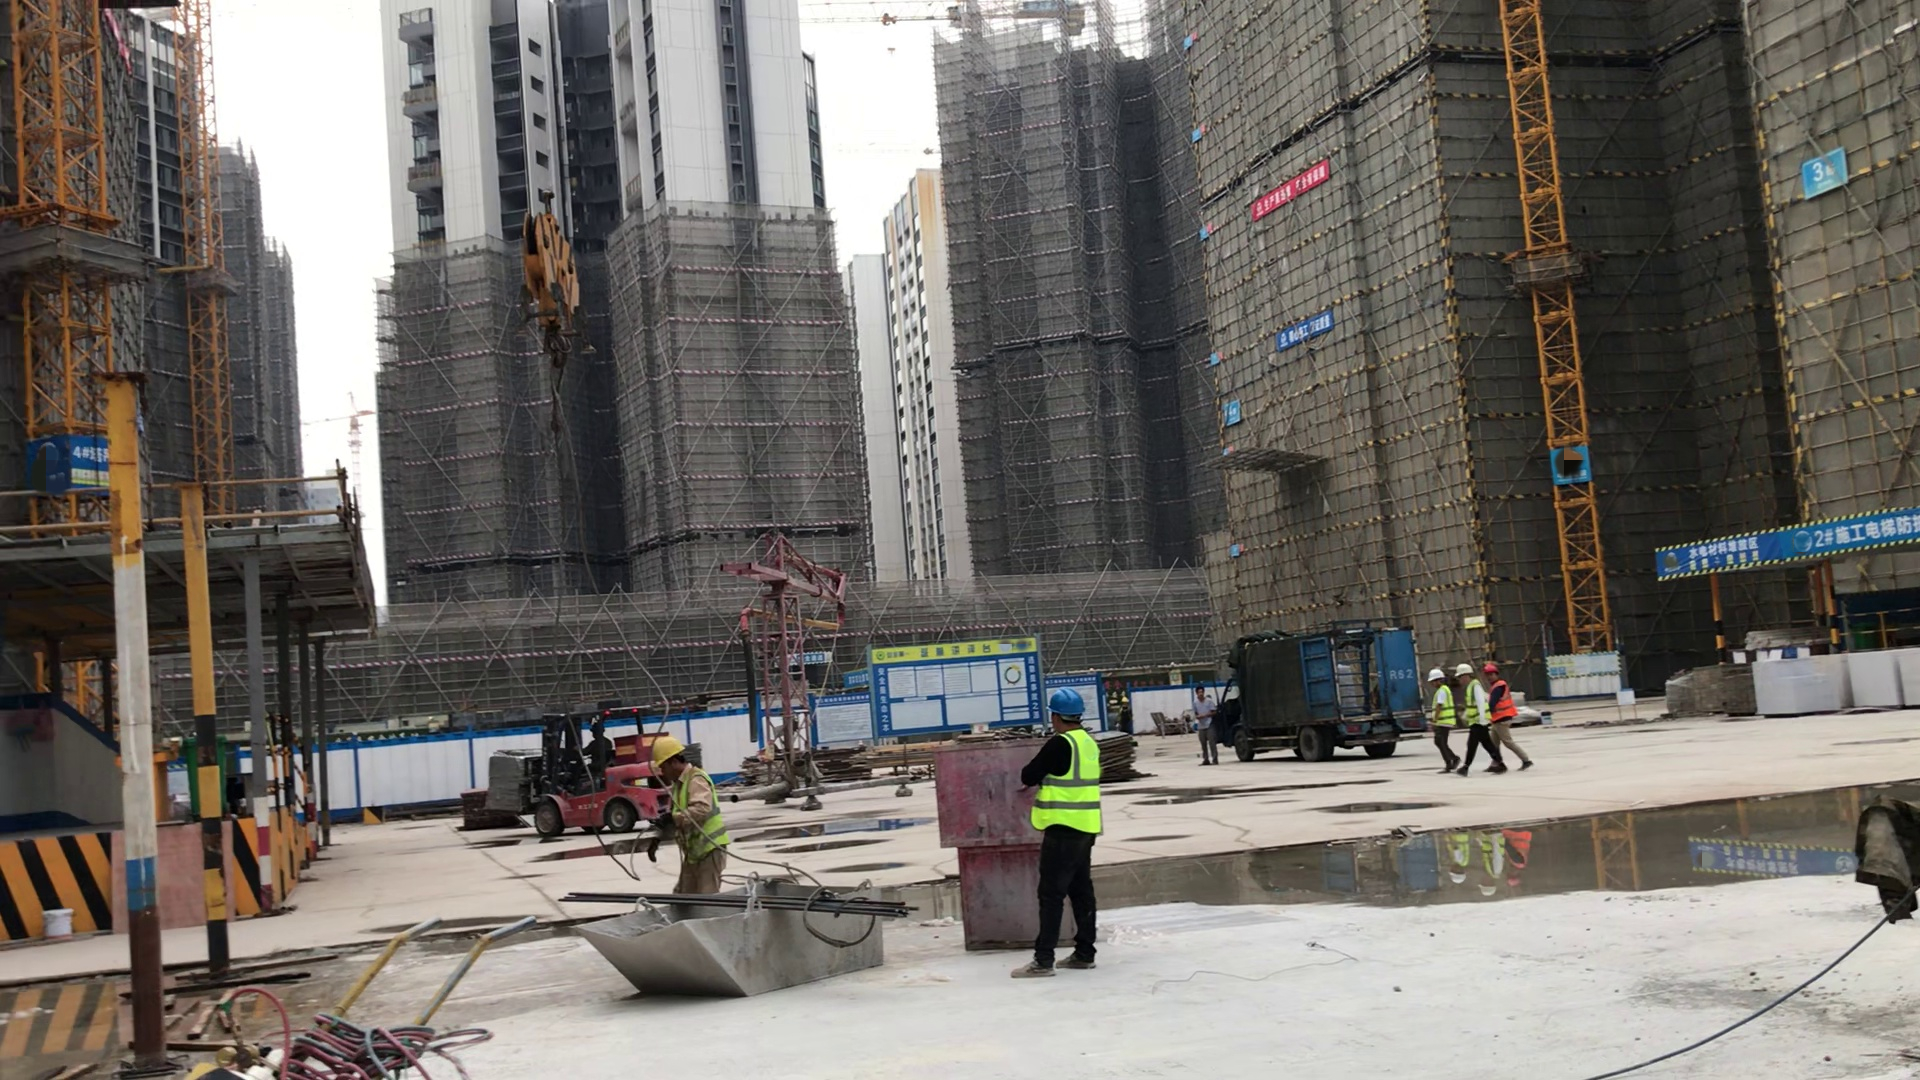board: (1090, 718, 1152, 783)
brick: (1729, 639, 1920, 717), (481, 741, 538, 815)
handcart: (163, 895, 544, 1080)
helmet: (1045, 687, 1092, 730), (643, 732, 687, 768), (1478, 652, 1512, 680), (1453, 656, 1474, 683), (1424, 664, 1446, 686), (586, 720, 607, 736)
hook: (492, 178, 606, 382)
hopper: (556, 882, 907, 1012)
person: (1006, 672, 1129, 993), (632, 716, 765, 937), (1475, 635, 1542, 787), (1411, 651, 1465, 793), (1443, 649, 1494, 766), (563, 706, 625, 797), (1182, 676, 1232, 785)
rebar: (549, 877, 930, 932)
slogan: (1648, 504, 1920, 602), (862, 631, 1047, 749), (1679, 828, 1865, 903), (19, 416, 156, 509), (1537, 645, 1644, 722), (1238, 155, 1333, 227), (1537, 426, 1617, 497), (798, 687, 885, 751), (1268, 297, 1345, 364), (1040, 661, 1108, 722), (1791, 141, 1852, 205), (768, 638, 845, 676), (1218, 395, 1253, 435), (830, 664, 873, 691)
vest: (1022, 723, 1101, 843), (656, 758, 736, 872), (1484, 681, 1519, 725), (1463, 680, 1491, 728), (1430, 682, 1455, 735)
wood: (842, 739, 949, 774)
